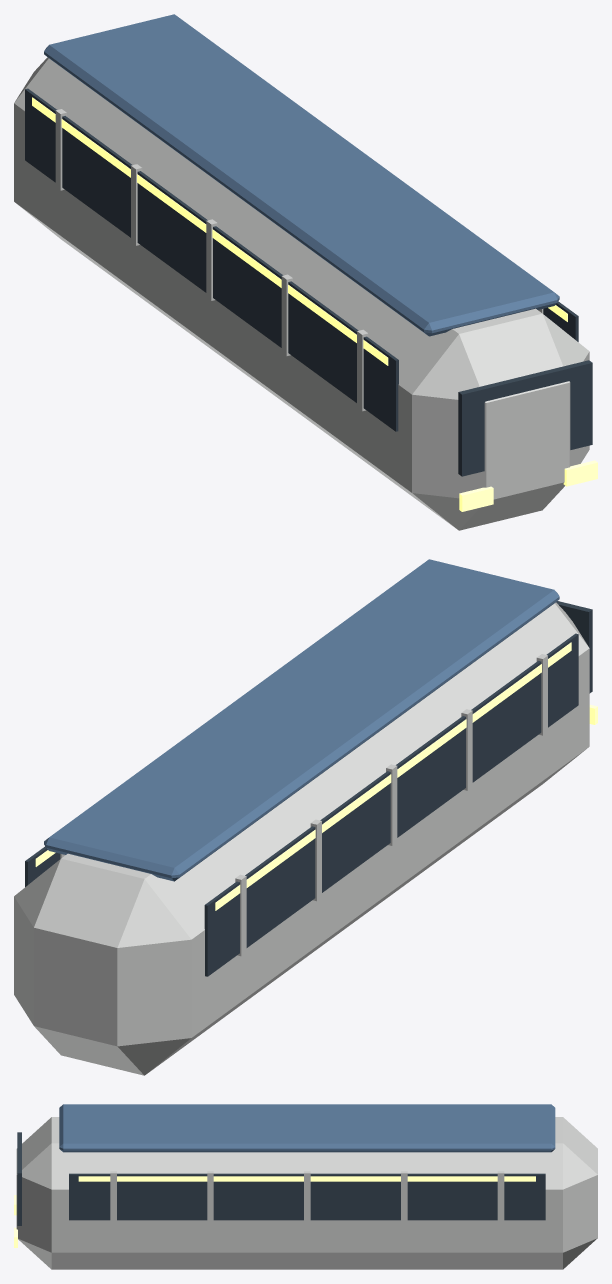
Rendered from relay_train.glb.
3 renders of one model, top to bottom at view 1: azimuth 30°, elevation 25°; view 2: azimuth 150°, elevation 25°; view 3: azimuth 270°, elevation 25°, orthographic. The views are drawn at different scales.
Visible parts, largest first — view 1: relay_train_concrete, relay_train_blue, relay_train_dark, relay_train_amber; view 2: relay_train_concrete, relay_train_blue, relay_train_dark, relay_train_amber; view 3: relay_train_concrete, relay_train_blue, relay_train_dark, relay_train_amber.
Part boxes in pixels (x1,y1,x2,y2): relay_train_concrete: (14,57,589,530); relay_train_blue: (44,14,559,336); relay_train_dark: (25,88,592,476); relay_train_amber: (32,97,597,511); relay_train_concrete: (14,602,589,1075); relay_train_blue: (44,559,559,881); relay_train_dark: (25,601,592,976); relay_train_amber: (35,642,597,910); relay_train_concrete: (16,1117,597,1269); relay_train_blue: (59,1104,555,1152); relay_train_dark: (17,1132,545,1225); relay_train_amber: (14,1176,535,1247).
Bounding box in the file's own units: 3.56 × 3.78 × 15.07.
